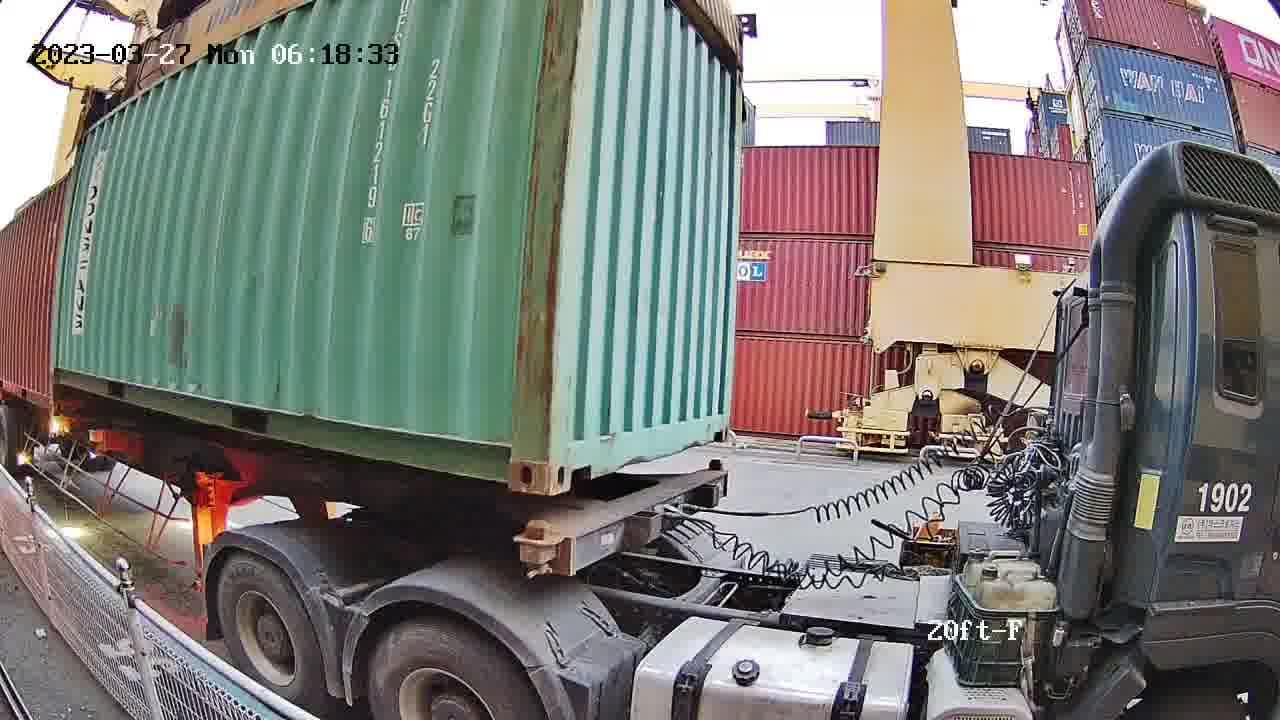Chassis: (511, 469, 727, 576)
Cone: (520, 519, 555, 579), (703, 458, 723, 474)
Hole_L: (547, 425, 596, 496)
Hole_R: (481, 421, 549, 497), (708, 405, 731, 443)
Tire: (216, 558, 322, 706), (366, 629, 528, 718)
